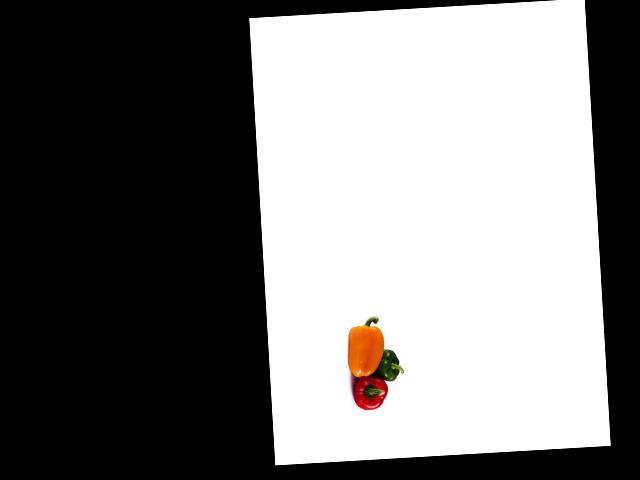bell_pepper: (370, 345, 404, 385)
